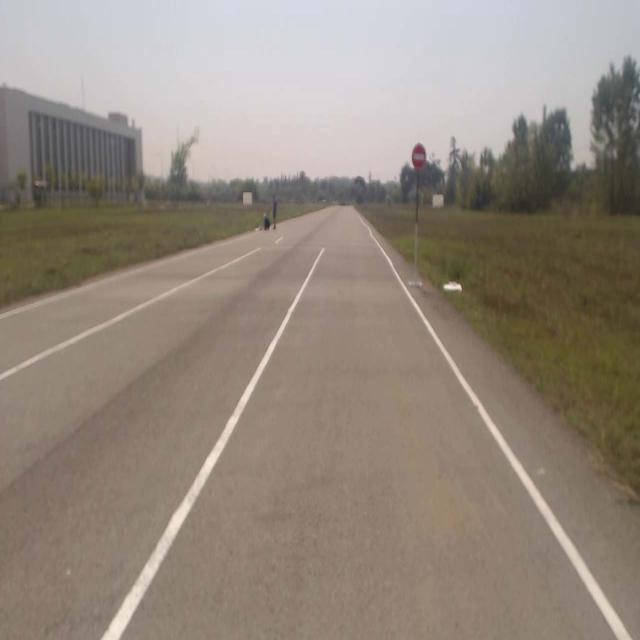girisyok: (412, 145, 426, 169)
